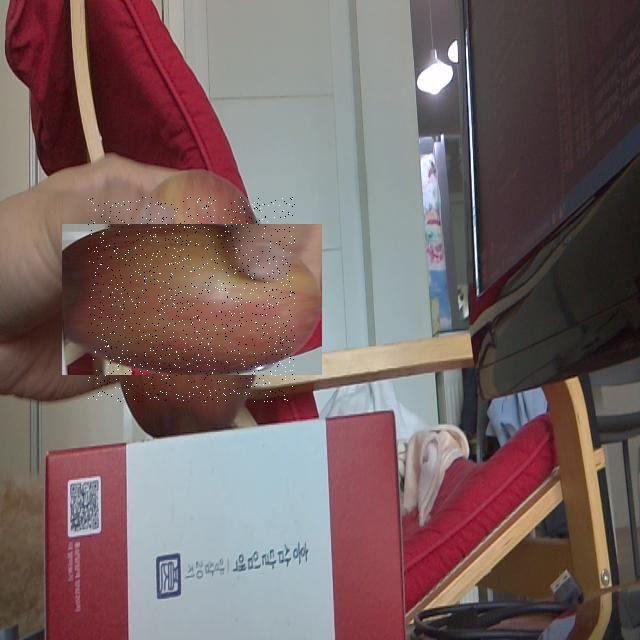apple: (88, 197, 295, 402)
